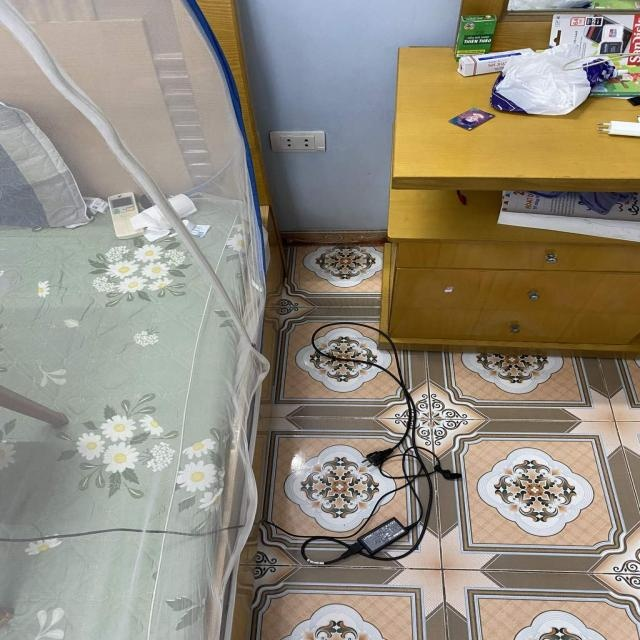outlet: (268, 131, 325, 153)
